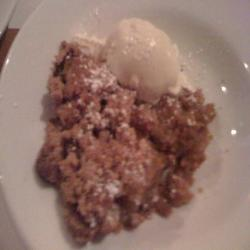apple_pie: (47, 50, 220, 237)
icecream: (98, 18, 187, 108)
